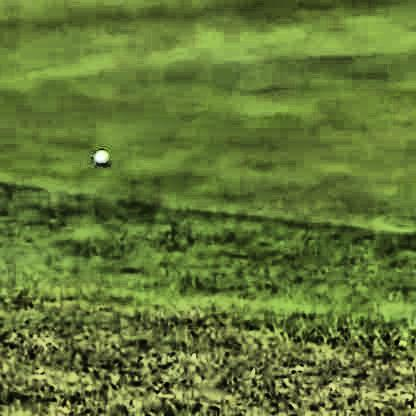golfball: (90, 146, 108, 164)
